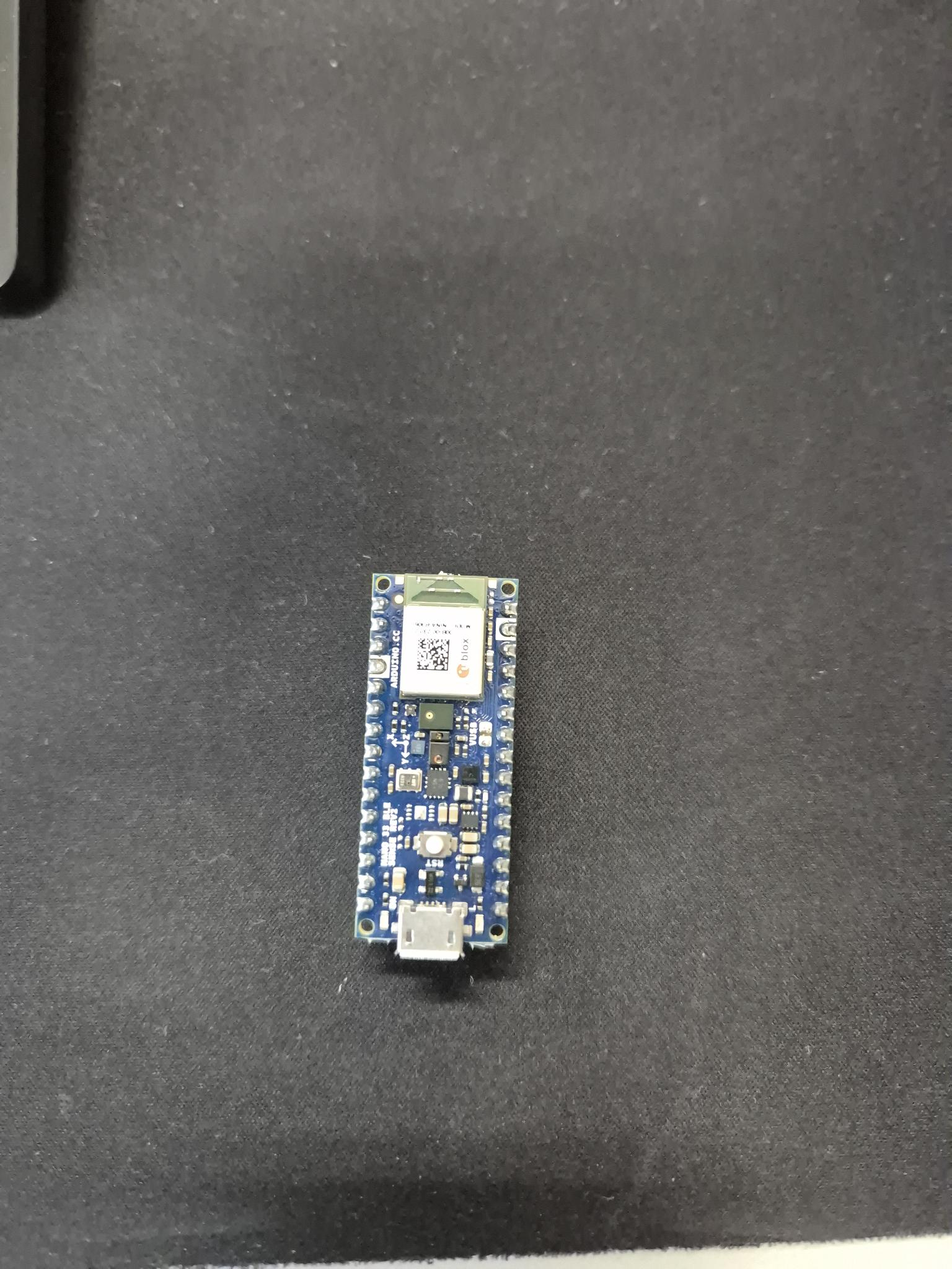arduino-nano-ble-sense: (355, 573, 518, 960)
